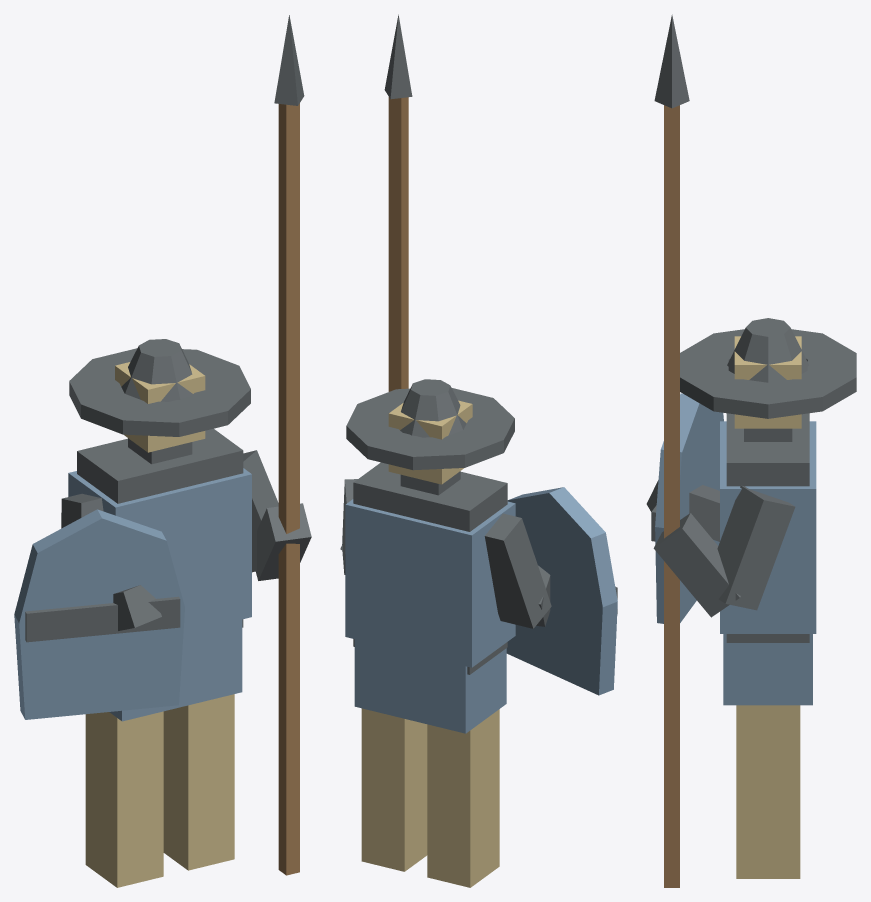
The model's file is spear-2.glb.
3 renders of one model, left to right at view 1: azimuth 30°, elevation 25°; view 2: azimuth 150°, elevation 25°; view 3: azimuth 270°, elevation 25°, orthographic. The views are drawn at different scales.
Visible parts, largest first — view 1: spearman; view 2: spearman; view 3: spearman.
Boxes of the visible parts, x1,y1,x2,y2 form: spearman: [14, 15, 311, 887]; spearman: [340, 14, 617, 887]; spearman: [646, 14, 856, 887].
Size of the model in its own units: 1.06 by 3.02 by 0.6559.
